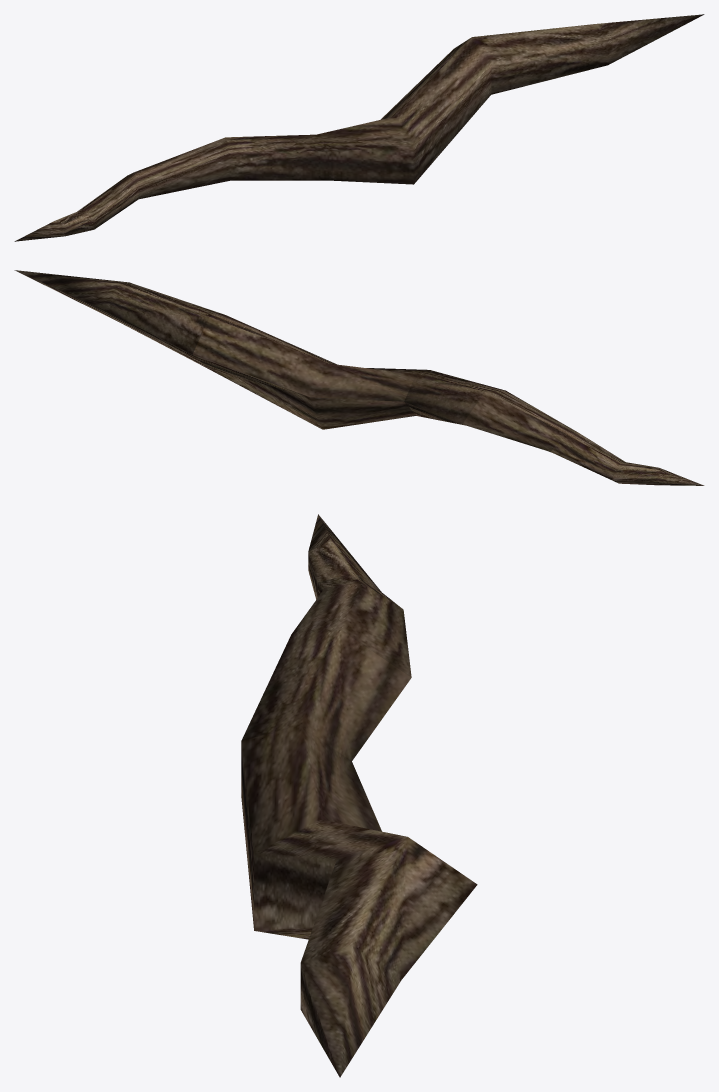
3 renders of one model, top to bottom at view 1: azimuth 30°, elevation 25°; view 2: azimuth 150°, elevation 25°; view 3: azimuth 270°, elevation 25°, orthographic. The views are drawn at different scales.
Visible parts, largest first — view 1: model_Object37; view 2: model_Object37; view 3: model_Object37.
Boxes of the visible parts, x1=… form: model_Object37: x1=14, y1=14, x2=704, y2=241; model_Object37: x1=14, y1=270, x2=704, y2=485; model_Object37: x1=241, y1=514, x2=477, y2=1077.
Size of the model in its own units: 6.12 by 0.8624 by 0.9131.
Materials: 1 (1 with a texture image).
